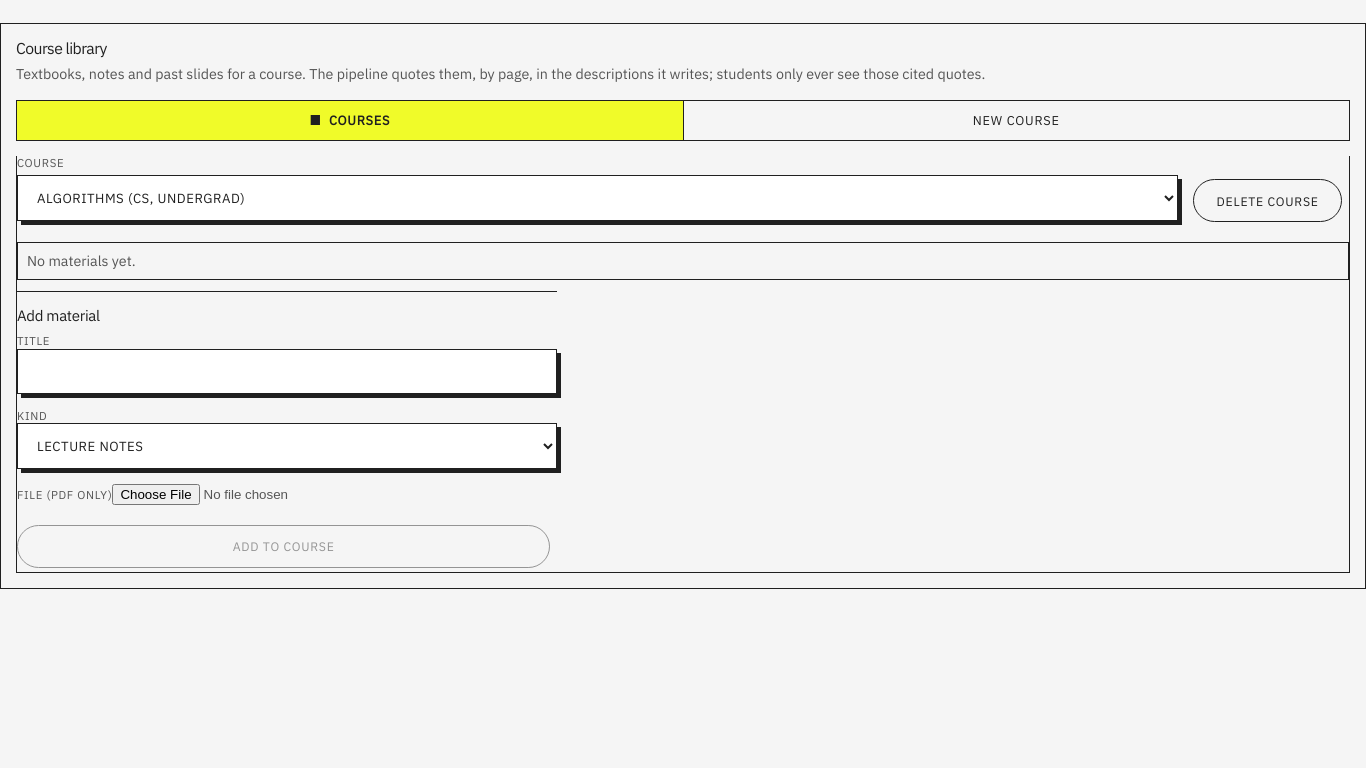
Test: LibraryPanel › opens on the courses view when courses exist, and the new-course form lives in its own view
The image size is (1366, 768).
Expected: the tab "Courses" is shown, [17,101,682,140]
Expected: the dropdown with id "library-select" is shown, [17,175,1178,221]
Click the tab "New course" at (1016, 120), box [684,101,1349,140]
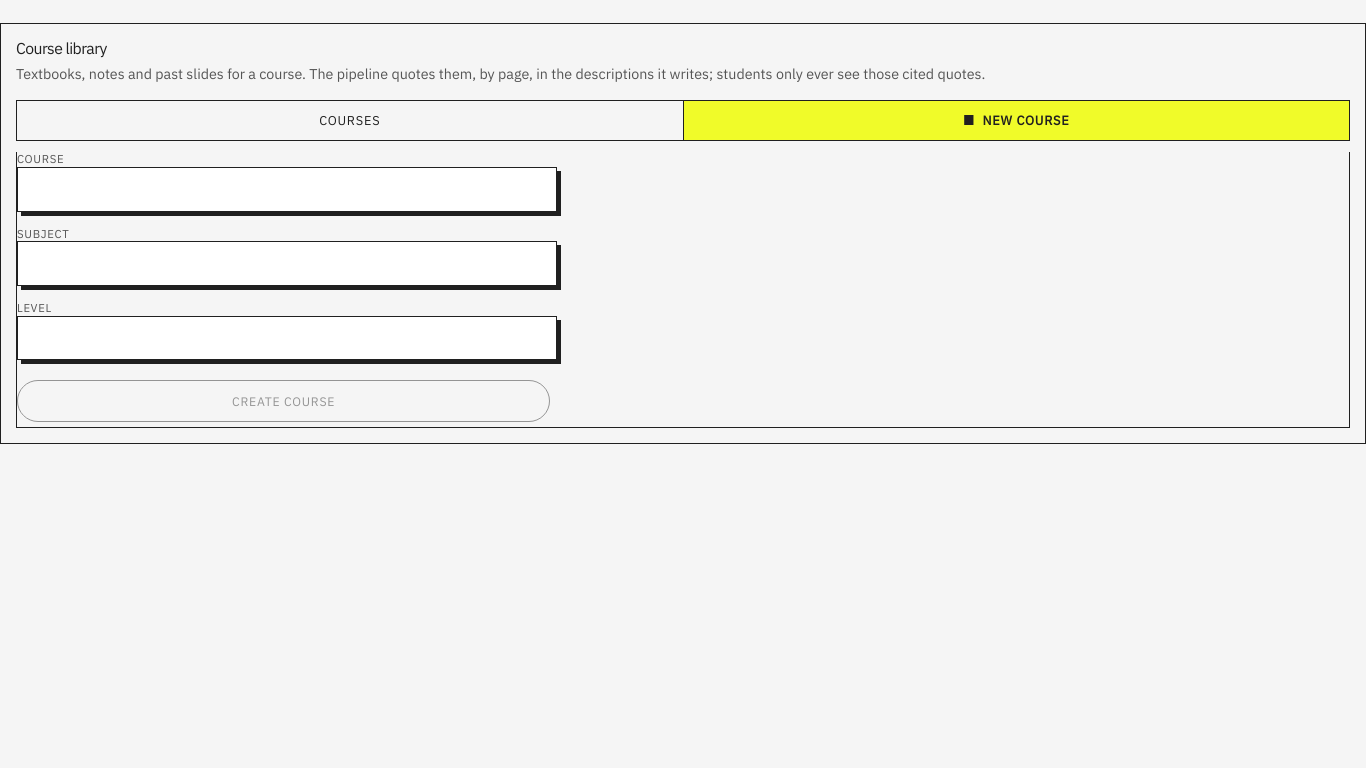
Result: the form named "Create a course" is shown at [17,152,557,427]
Result: the dropdown with id "library-select" is gone
